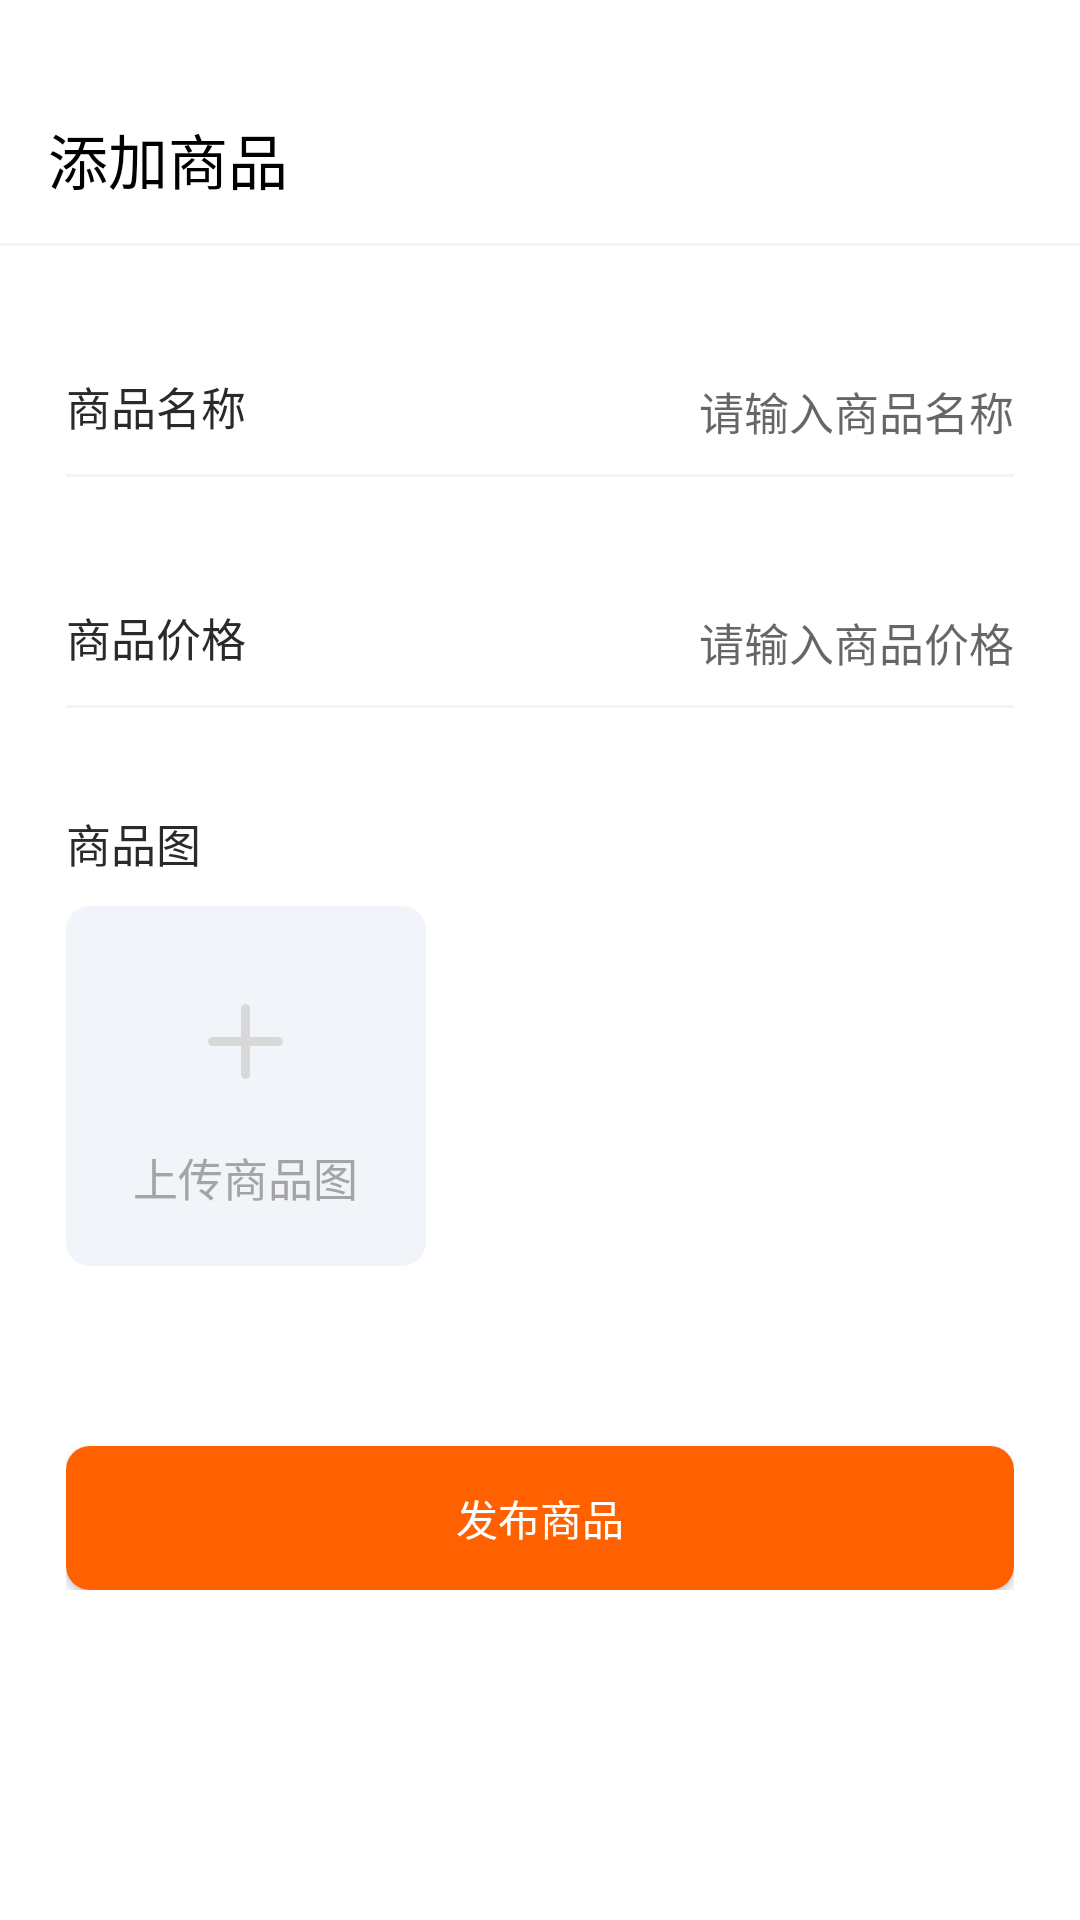

Icon bounding boxes for this 1080px×1920px phone screenshot, format (left=x1, top=y1, right=x2, bottom=y2):
add: (left=208, top=1004, right=283, bottom=1079)
